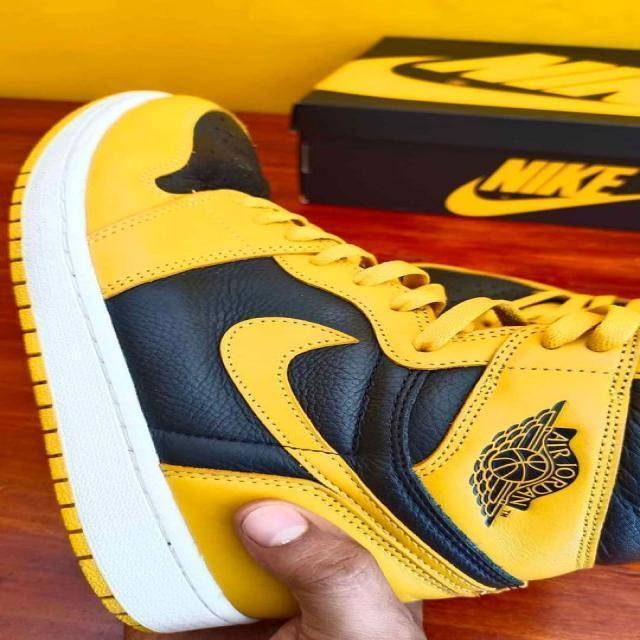nike original jordan 1: (6, 88, 640, 635)
